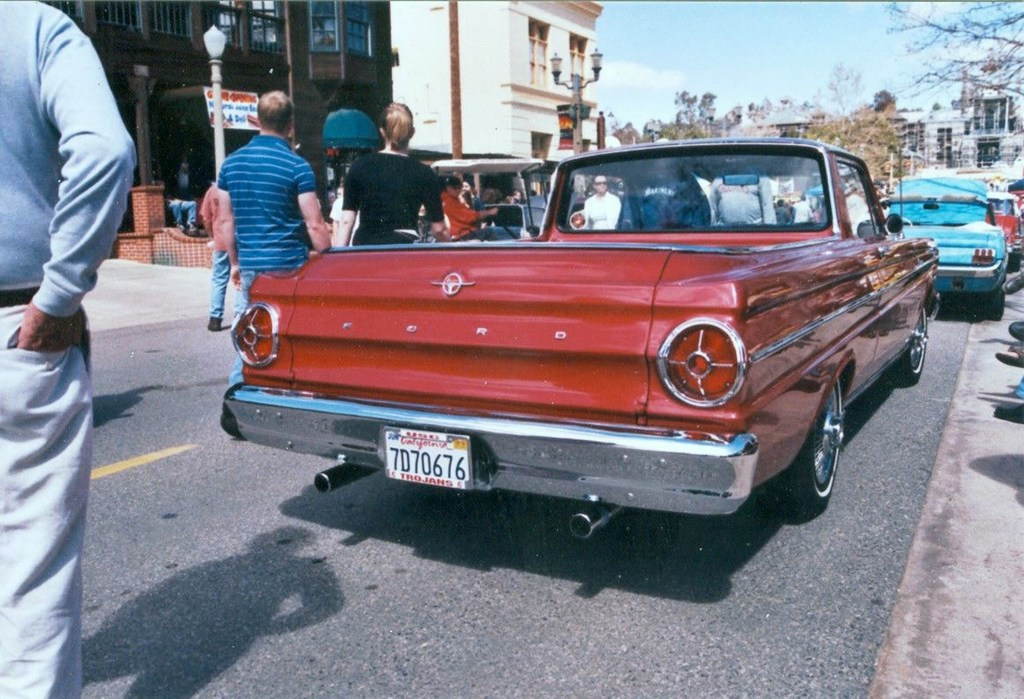Car: (225, 139, 945, 547), (885, 166, 1019, 304), (988, 193, 1022, 260)
